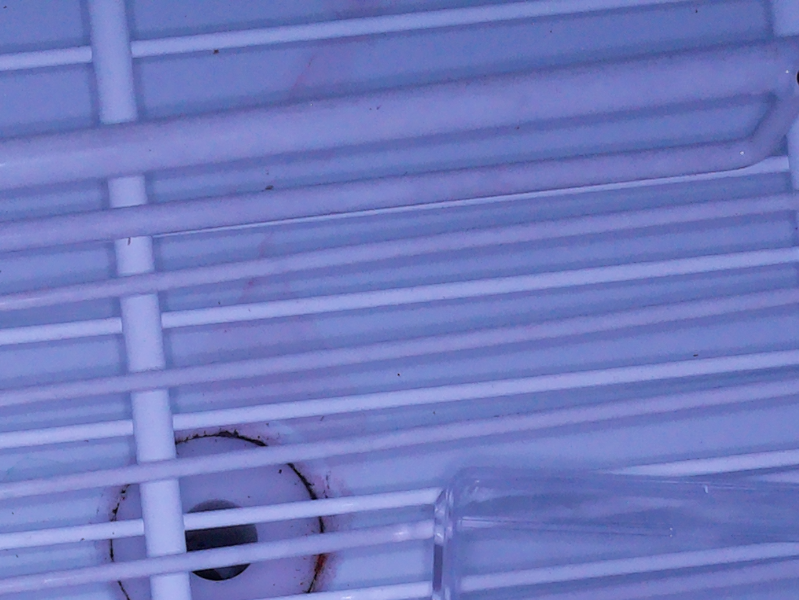plate: (431, 464, 799, 600)
